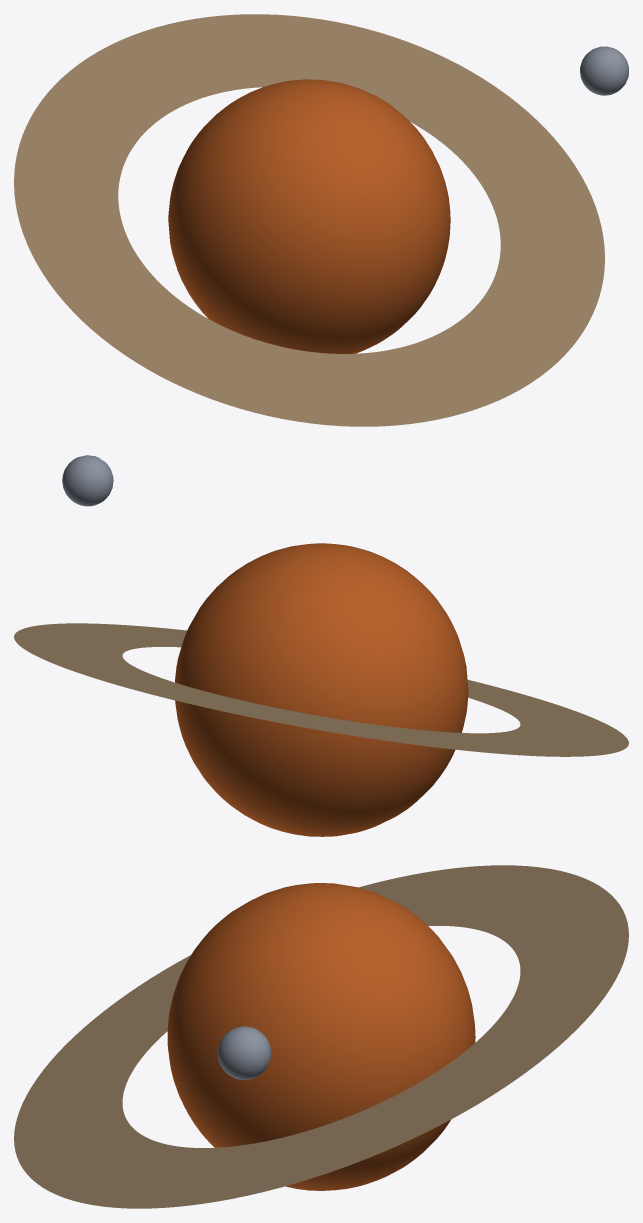
The model's file is ringed-planet.glb.
The picture shows the model from 3 angles, top to bottom: view 1: azimuth 30°, elevation 25°; view 2: azimuth 150°, elevation 25°; view 3: azimuth 270°, elevation 25°; orthographic projection. The views are drawn at different scales.
Visible parts, largest first — view 1: Ring, Planet, Moon; view 2: Planet, Ring, Moon; view 3: Ring, Planet, Moon.
Part boxes in pixels (box(x1,y1,x2,y2)): Ring: box(14, 14, 604, 426); Planet: box(168, 79, 450, 353); Moon: box(580, 46, 628, 95); Planet: box(175, 543, 468, 836); Ring: box(14, 623, 628, 756); Moon: box(62, 455, 113, 506); Ring: box(14, 865, 628, 1208); Planet: box(167, 883, 475, 1190); Moon: box(217, 1026, 271, 1079).
Bounding box in the file's own units: 1.77 × 0.82 × 1.6.
